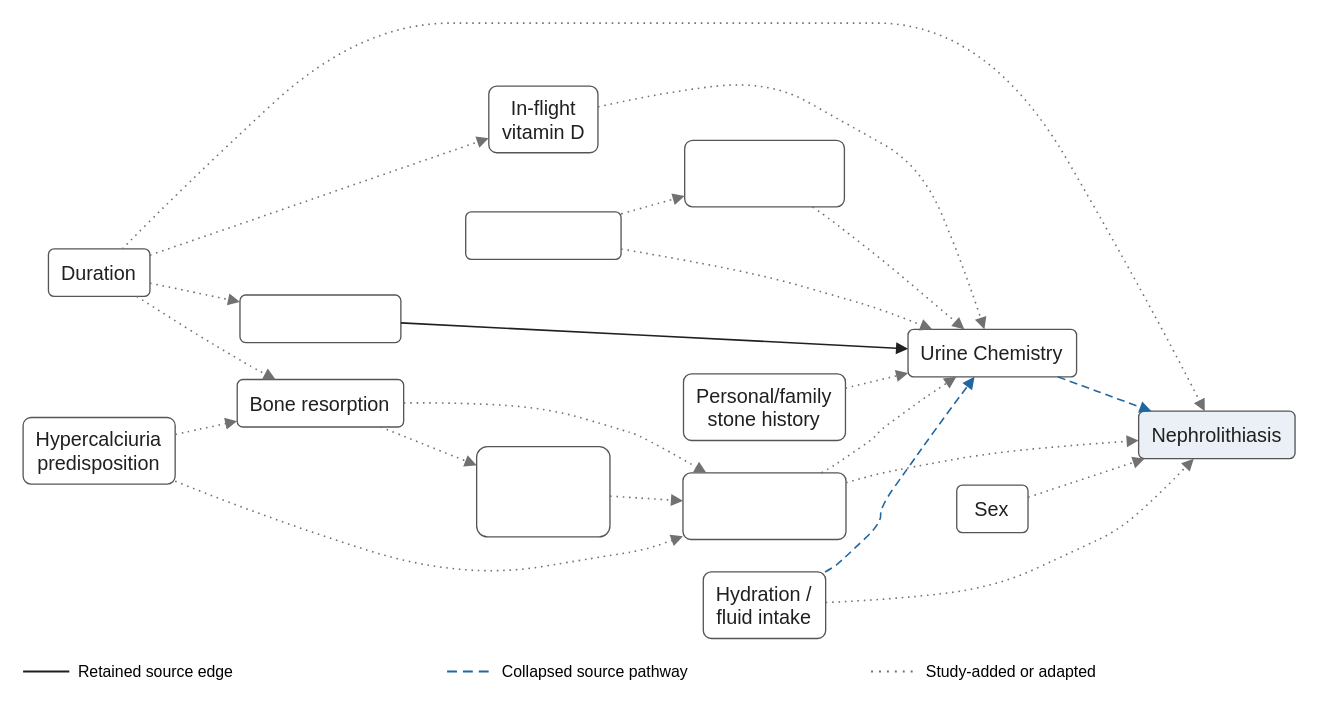
This 1319x710 diagram has some shape labels left out. Each missing label, with the box of its shape:
Bone formation: (239, 294, 401, 343)
Nutrients (risk): (464, 211, 621, 259)
Parathyroid hormone suppression: (475, 445, 610, 537)
Urinary calcium excretion: (682, 472, 846, 539)
Urinary oxalate excretion: (683, 139, 844, 207)
